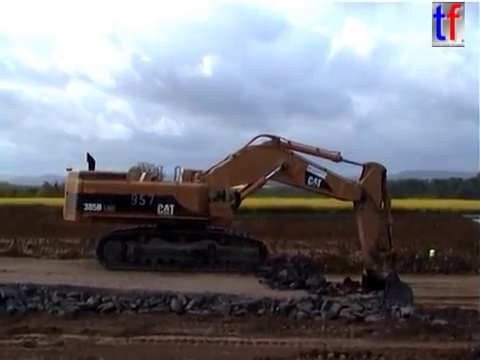excavator: (60, 131, 418, 325)
